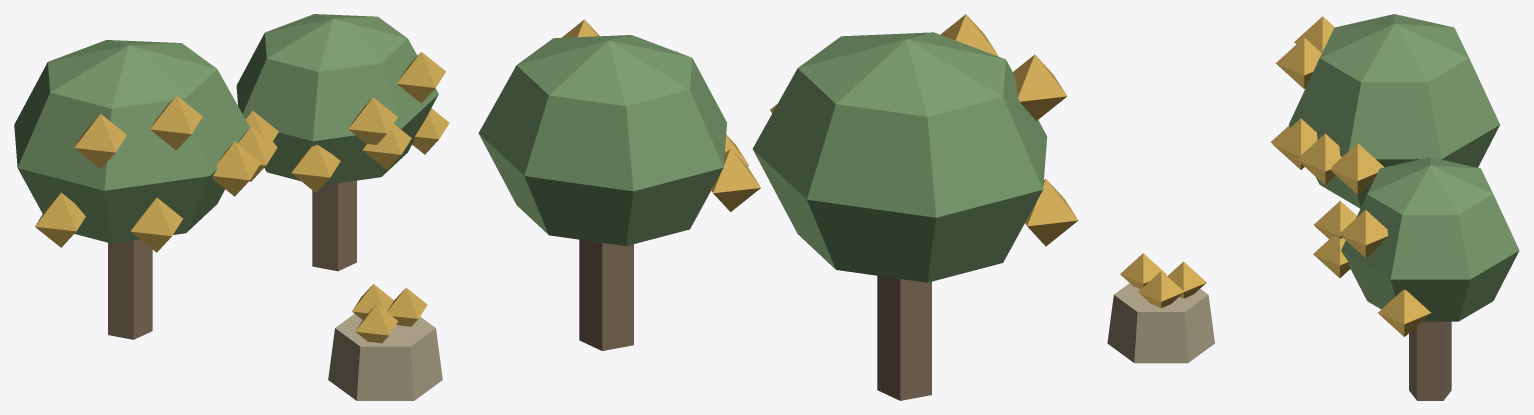
The model's file is citrus.glb.
3 views of the same model, side by side, from view 1: azimuth 30°, elevation 25°; view 2: azimuth 150°, elevation 25°; view 3: azimuth 270°, elevation 25° (orthographic). The views are drawn at different scales.
Parts seen in each view (by area): view 1: LOD0; view 2: LOD0; view 3: LOD0.
Boxes of the visible parts, x1,y1,x2,y2 form: LOD0: (14, 14, 449, 400); LOD0: (478, 14, 1078, 400); LOD0: (1107, 14, 1519, 400).
Size of what is drawn, in the model's own units: 0.6426 by 0.3943 by 0.5514.
